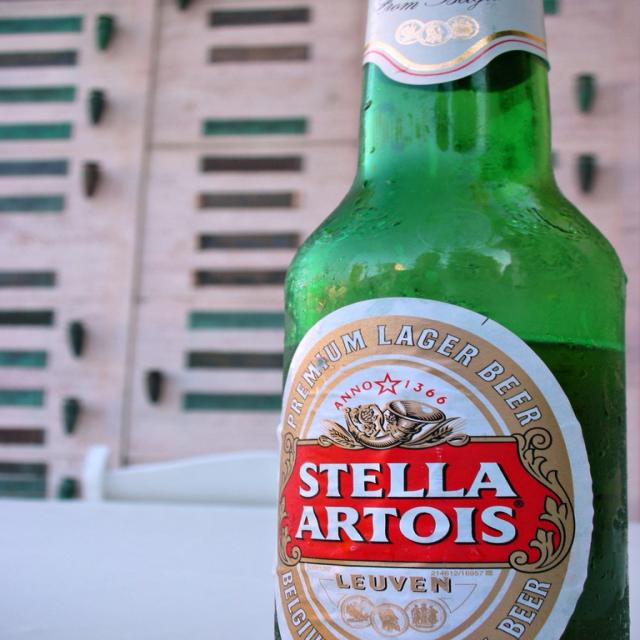stellaartois: (278, 314, 578, 640)
